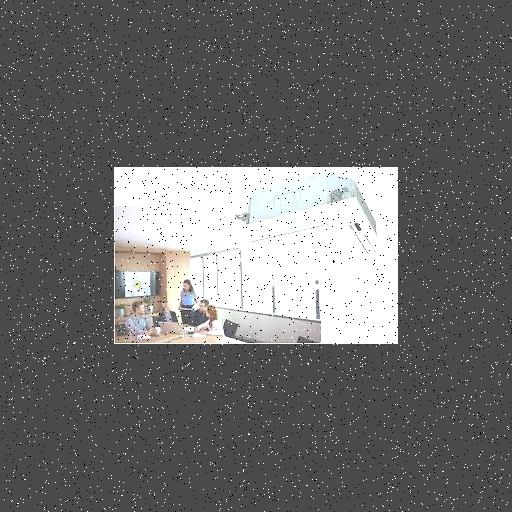4-way-ac: (219, 197, 393, 286), (139, 217, 187, 234)
